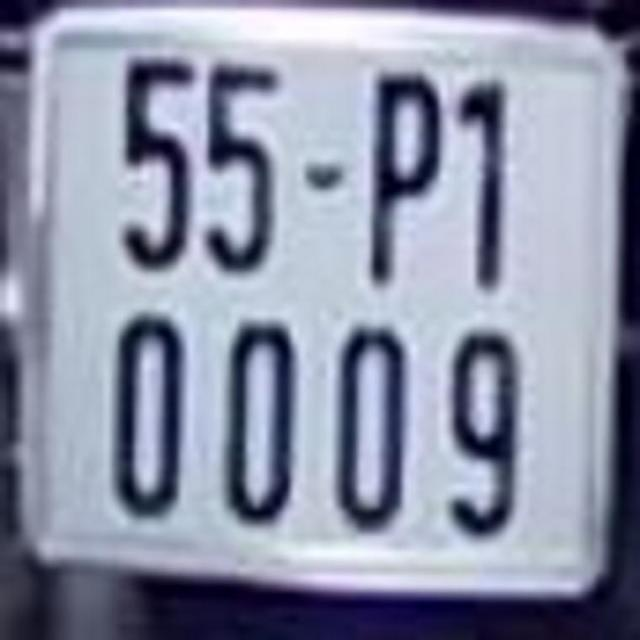0: (330, 313, 410, 530), (112, 307, 187, 511), (220, 318, 294, 522)
1: (452, 74, 506, 288)
5: (116, 48, 198, 268), (204, 56, 282, 271)
9: (446, 326, 520, 538)
P: (366, 61, 444, 292)
